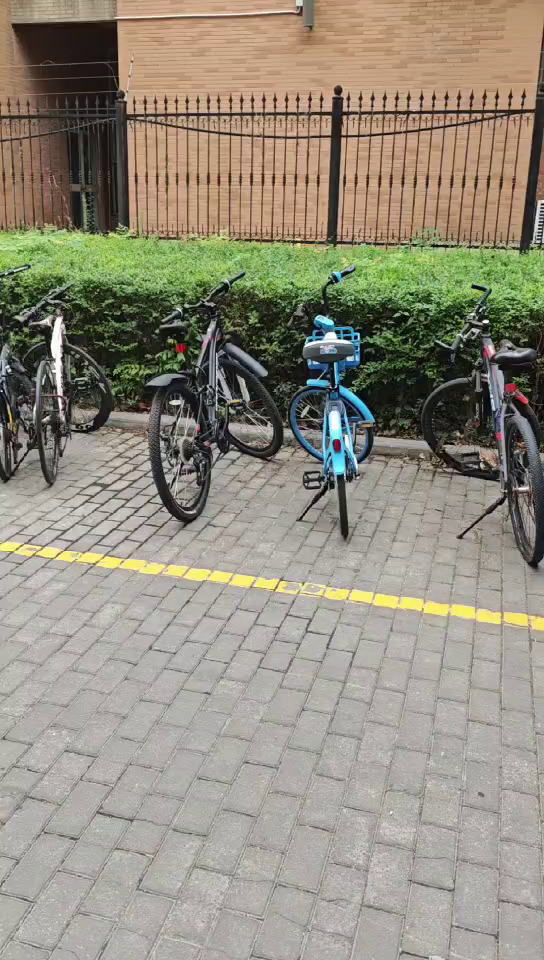others: (134, 271, 268, 528), (428, 285, 544, 574), (12, 281, 109, 466)
shared_bike_haluo: (276, 270, 392, 557)
